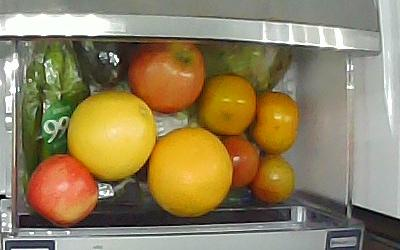apple: (127, 41, 204, 113), (27, 154, 99, 227)
grapefruit: (66, 90, 156, 182), (147, 125, 232, 218)
persimmon: (199, 74, 257, 135), (252, 91, 301, 153)
prune: (220, 134, 260, 188), (255, 157, 296, 202)
